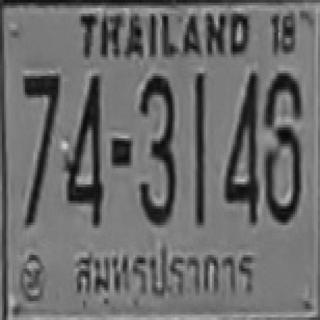N01: (193, 72, 204, 191)
N03: (137, 73, 174, 222)
N04: (63, 73, 103, 225), (222, 71, 258, 222)
N07: (22, 73, 59, 193), (22, 73, 59, 171)
P57: (66, 239, 260, 304)
